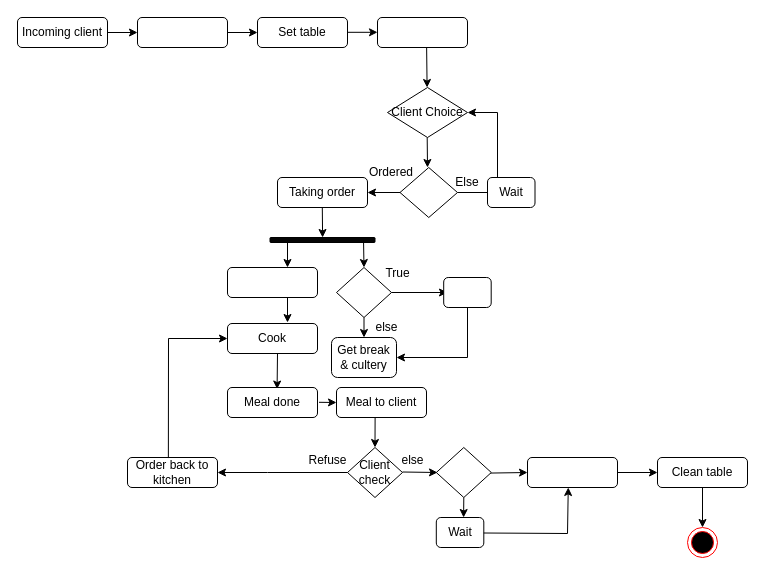
Image size: 765x575. Some labels were removed from this diagram. Each missing label, with the centre of its shape:
Client done: [463,472]
Drinks: [364,292]
Get drinks: [467,292]
Give Menu: [422,32]
Order to kitchen: [272,282]
Receipt to client: [572,472]
Welcome Client: [182,32]
